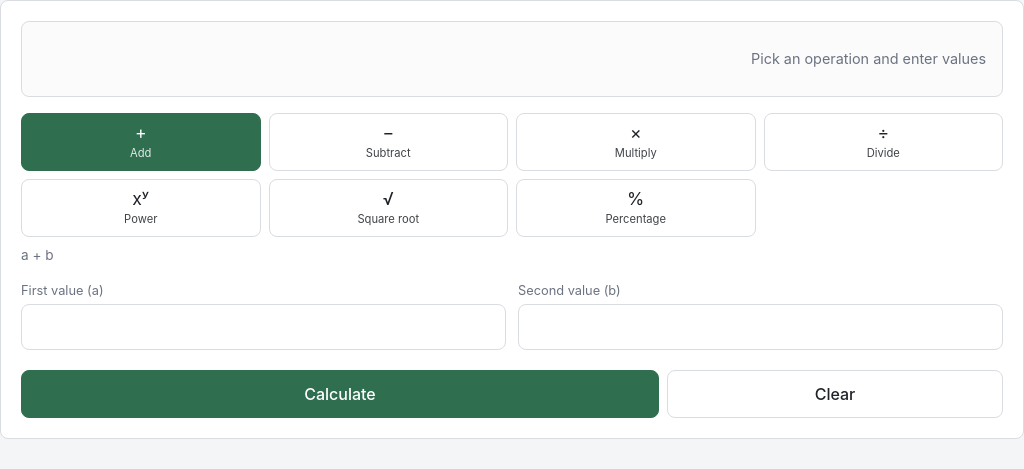
Scenario: Calculator › switches operation before calculating
In the field labelled "First value (a)": (264, 327) [21,304,506,350], type "3"
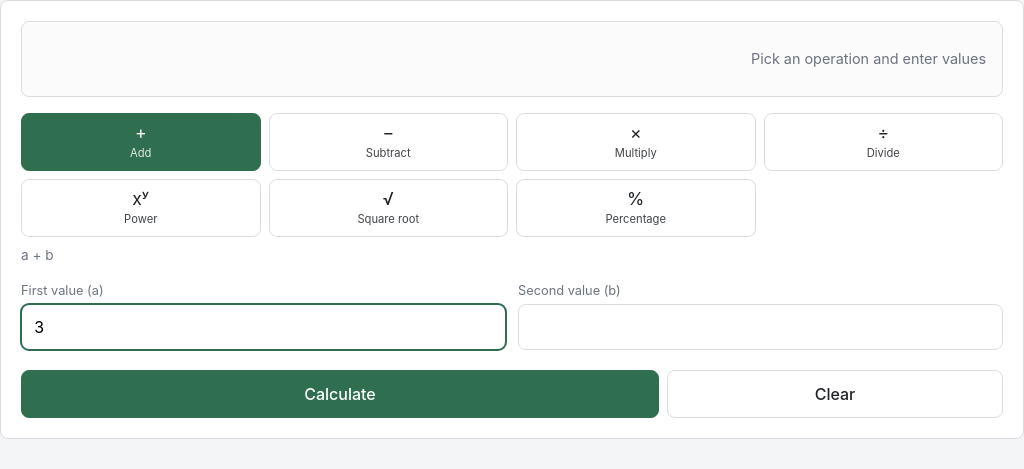
In the field labelled "Second value (b)": (760, 327) [518,304,1003,350], type "5"
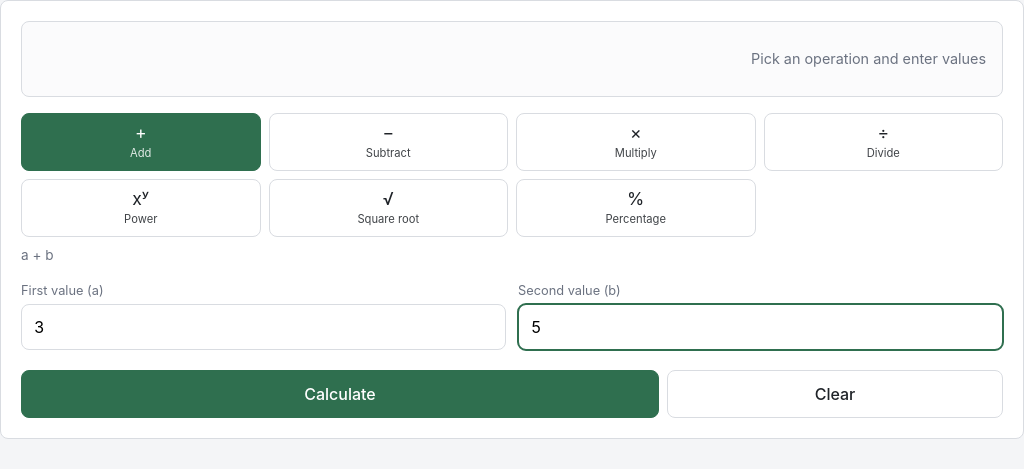
Click the button "× Multiply": (636, 142) [516,113,756,171]
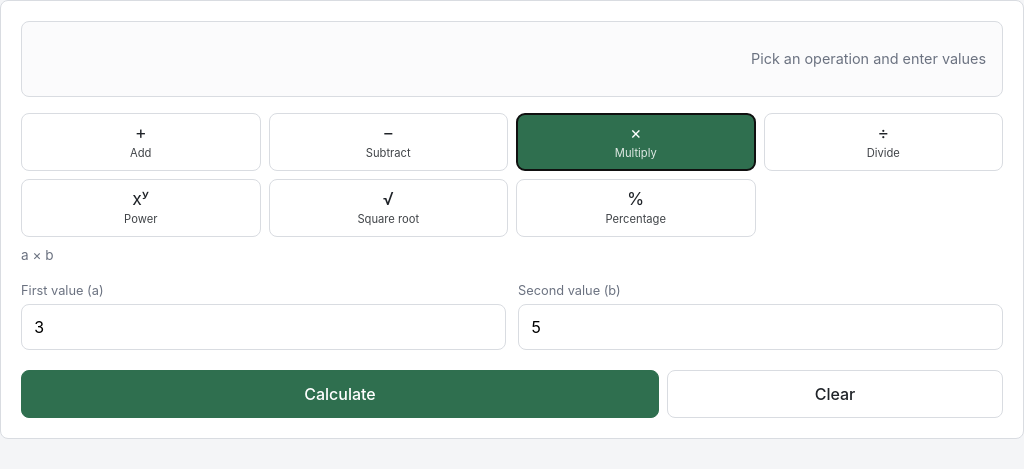
Click the button "Calculate": (340, 394) [21,370,659,418]
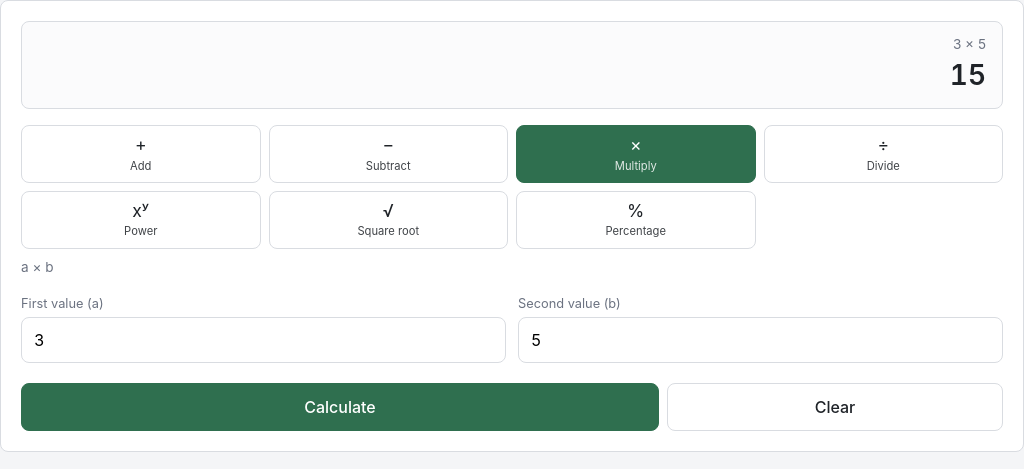
Expected: the text "15" is shown, [950,54,986,96]
